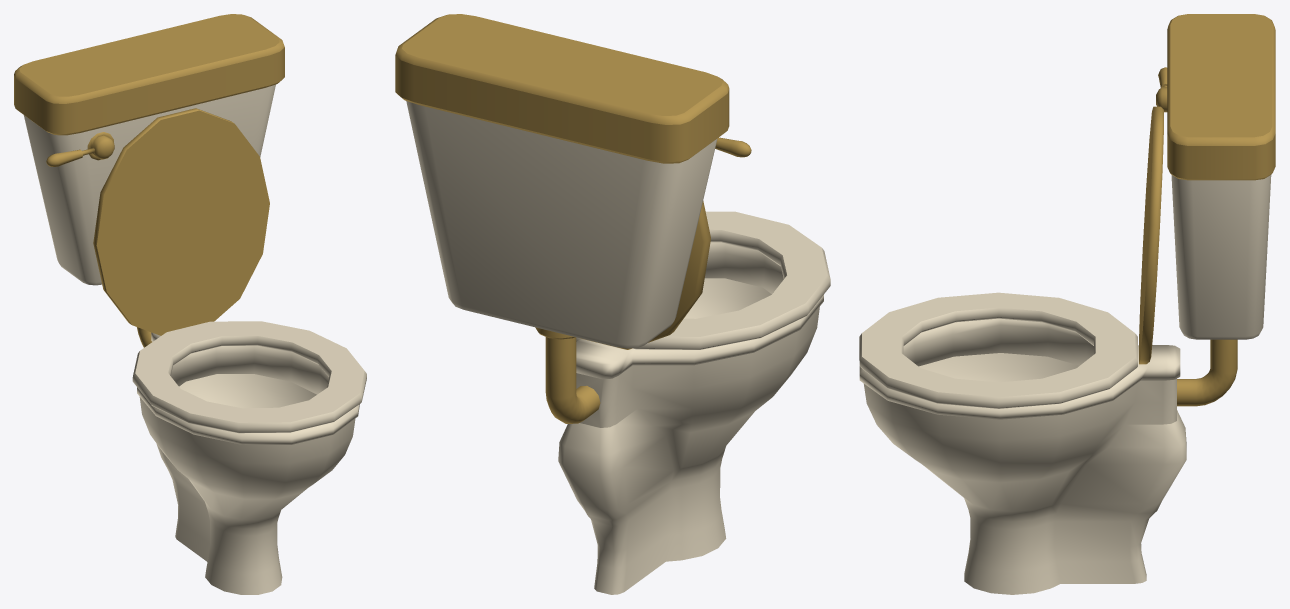
Rendered from BathroomToilet.fbx.
The picture shows the model from 3 angles, left to right: view 1: azimuth 30°, elevation 25°; view 2: azimuth 150°, elevation 25°; view 3: azimuth 270°, elevation 25°; orthographic projection. The views are drawn at different scales.
Parts seen in each view (by area): view 1: ToiletUVd:polySurface88; view 2: ToiletUVd:polySurface88; view 3: ToiletUVd:polySurface88.
Part boxes in pixels (x1=…): ToiletUVd:polySurface88: x1=14, y1=14, x2=366, y2=594; ToiletUVd:polySurface88: x1=395, y1=14, x2=830, y2=594; ToiletUVd:polySurface88: x1=859, y1=14, x2=1275, y2=594.
Bounding box in the file's own units: 1.19 × 2.09 × 1.57.
